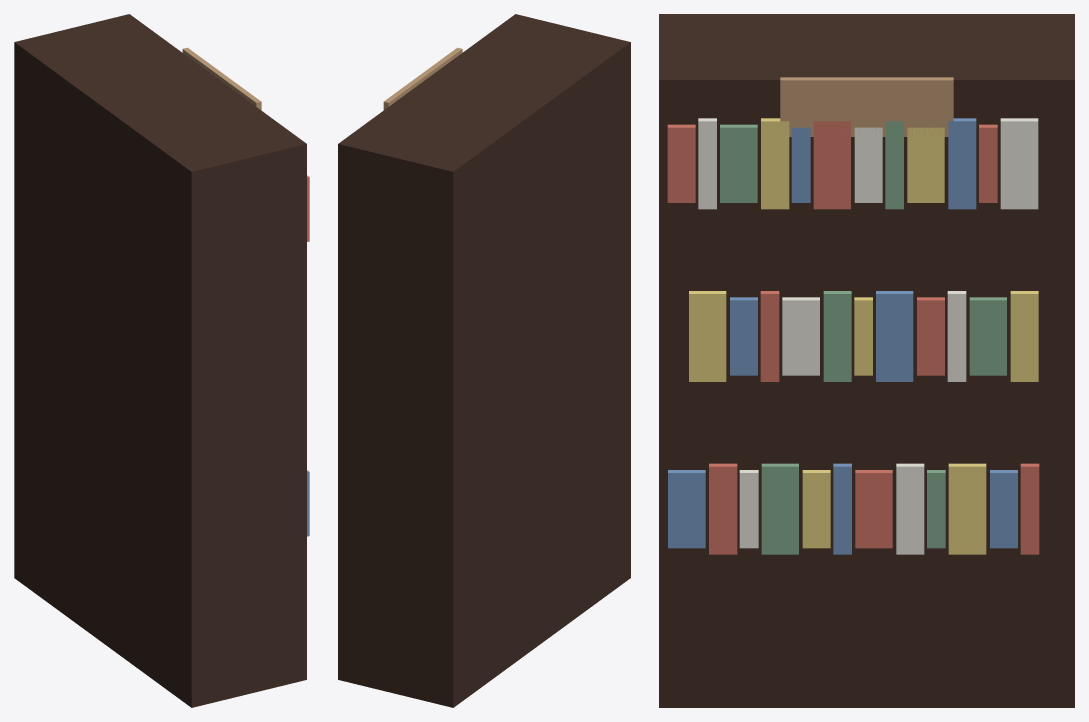
Rendered from estante_1975.glb.
3 renders of one model, left to right at view 1: azimuth 30°, elevation 25°; view 2: azimuth 150°, elevation 25°; view 3: azimuth 270°, elevation 25°, orthographic. The views are drawn at different scales.
Parts seen in each view (by area): view 1: Malha_0; view 2: Malha_0; view 3: Malha_0.
Boxes of the visible parts, x1,y1,x2,y2 form: Malha_0: (14, 14, 309, 707); Malha_0: (338, 14, 630, 707); Malha_0: (659, 14, 1074, 707).
Bounding box in the file's own units: 0.475 × 2.01 × 1.2.
